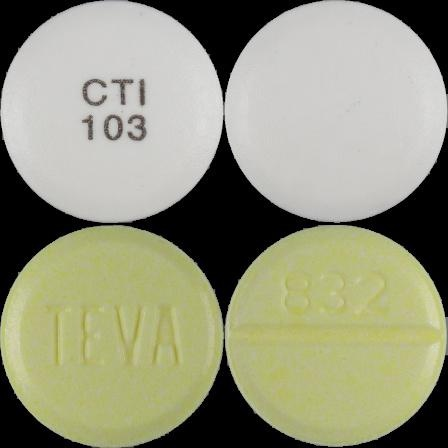63187-222: (0, 0, 224, 224)
